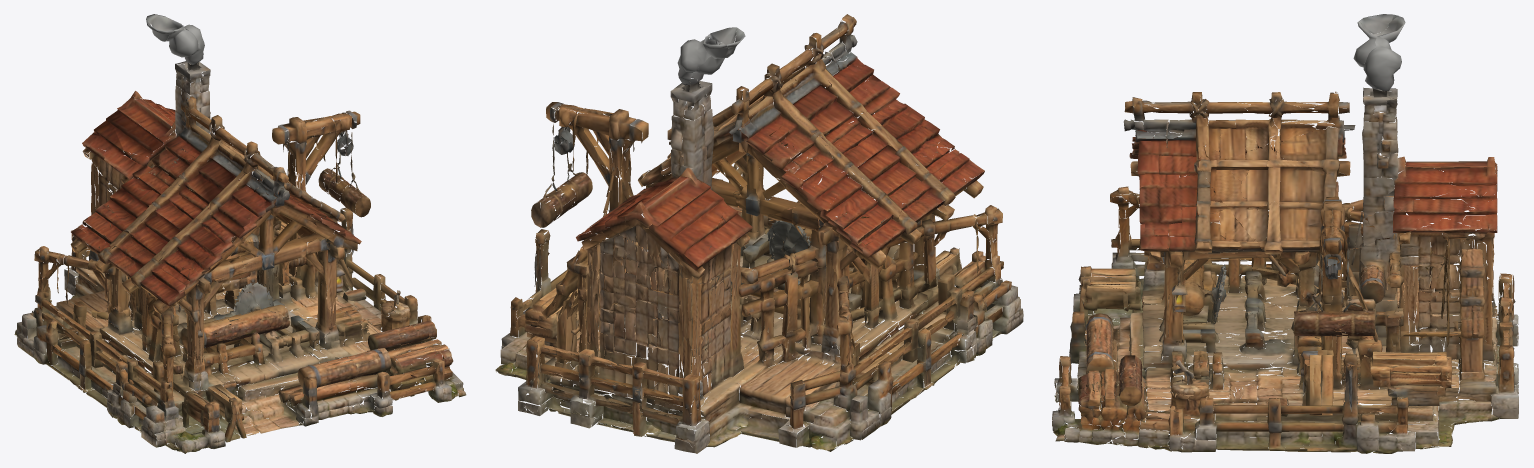
Rendered from Valoria_Workshop_v2.glb.
The picture shows the model from 3 angles, left to right: view 1: azimuth 30°, elevation 25°; view 2: azimuth 150°, elevation 25°; view 3: azimuth 270°, elevation 25°; orthographic projection. The views are drawn at different scales.
Visible parts, largest first — view 1: WorkshopV2 · 000 · tripo_node_c6c52015-155b-4e0e-bfda-8cb0f2; view 2: WorkshopV2 · 000 · tripo_node_c6c52015-155b-4e0e-bfda-8cb0f2; view 3: WorkshopV2 · 000 · tripo_node_c6c52015-155b-4e0e-bfda-8cb0f2.
Part boxes in pixels (x1,y1,x2,y2): WorkshopV2 · 000 · tripo_node_c6c52015-155b-4e0e-bfda-8cb0f2: [14, 14, 466, 453]; WorkshopV2 · 000 · tripo_node_c6c52015-155b-4e0e-bfda-8cb0f2: [495, 14, 1023, 453]; WorkshopV2 · 000 · tripo_node_c6c52015-155b-4e0e-bfda-8cb0f2: [1052, 14, 1518, 453].
Size of the model in its own units: 3.19 by 3 by 3.76.
Materials: 1 (1 with a texture image).
